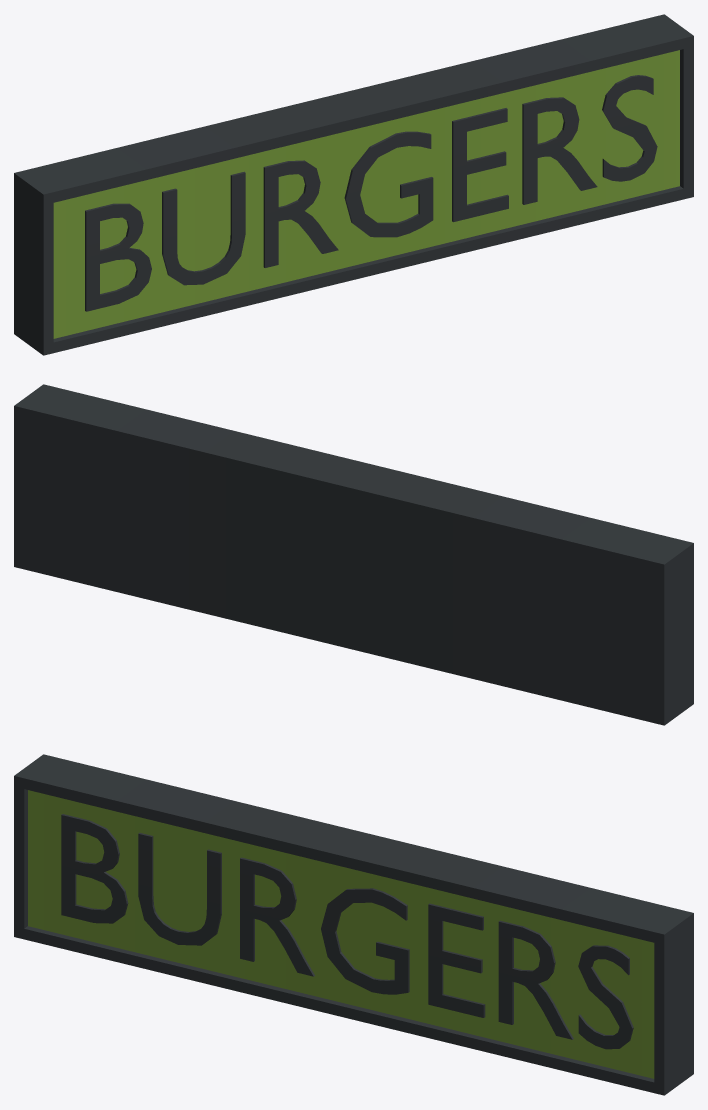
Rendered from Banner_08.fbx.
3 renders of one model, top to bottom at view 1: azimuth 30°, elevation 25°; view 2: azimuth 150°, elevation 25°; view 3: azimuth 330°, elevation 25°, orthographic.
Parts seen in each view (by area): view 1: Banner_08; view 2: Banner_08; view 3: Banner_08.
Part boxes in pixels (x1,y1,x2,y2): Banner_08: (14,14,693,355); Banner_08: (14,384,693,725); Banner_08: (14,754,693,1095).
Bounding box in the file's own units: 3.56 × 0.8434 × 0.2801.
